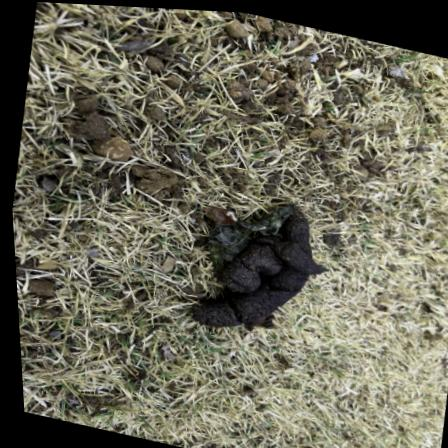dog-poop: (175, 169, 349, 362)
